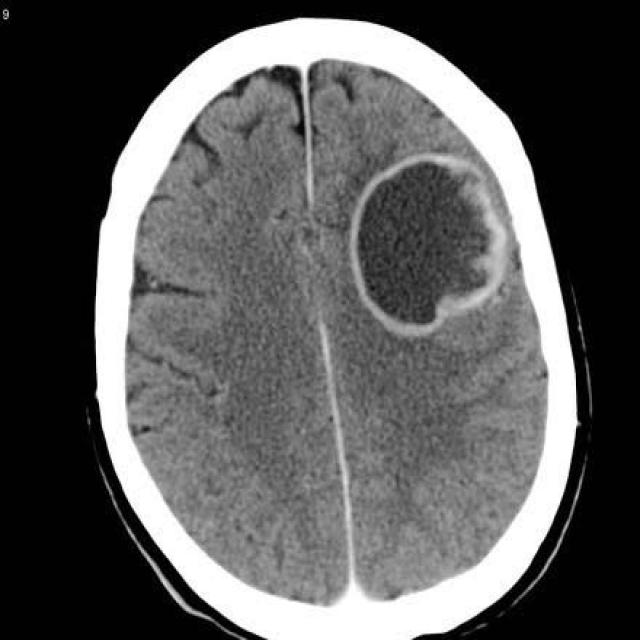tumor: (353, 160, 503, 330)
